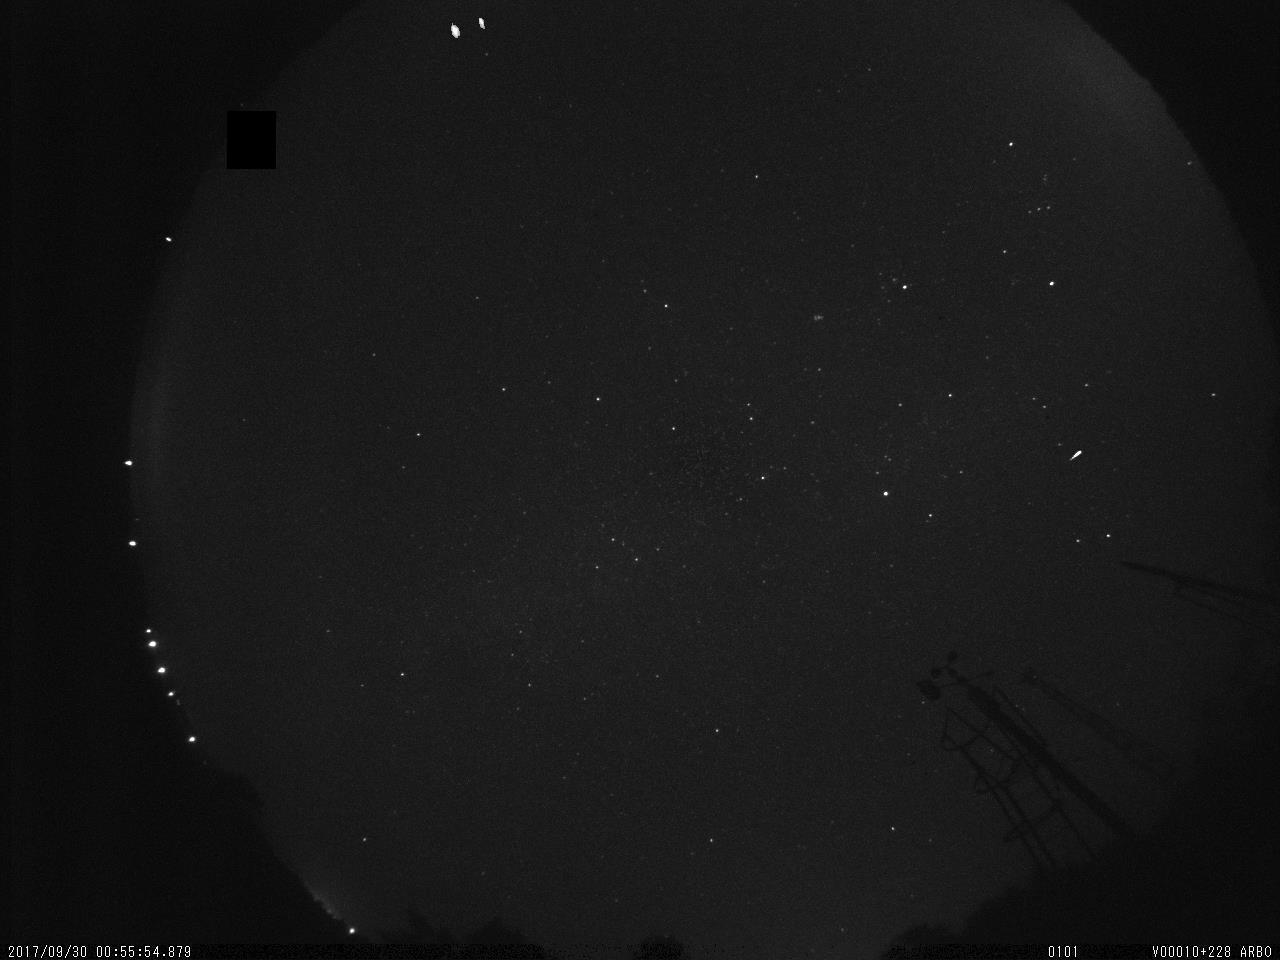TLE: (437, 6, 501, 45)
